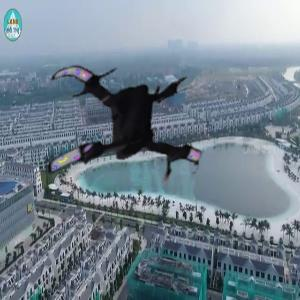drone: (36, 33, 225, 222)
